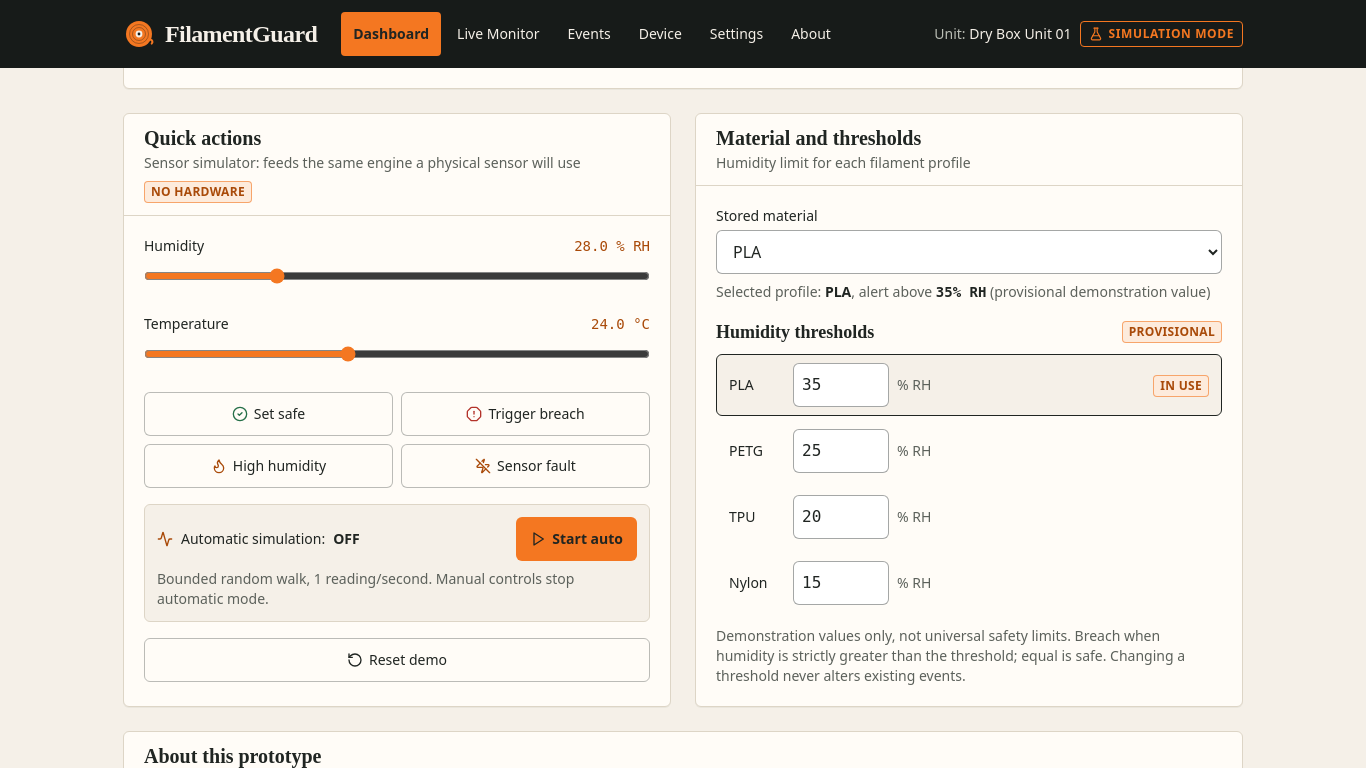
Test case: thresholds › rejects invalid threshold input and reverts
The width and height of the screenshot is (1366, 768).
(page scrolled)
Replace the text in the number field labelled "PLA" with "150" at (841, 385), box [793,363,889,407]
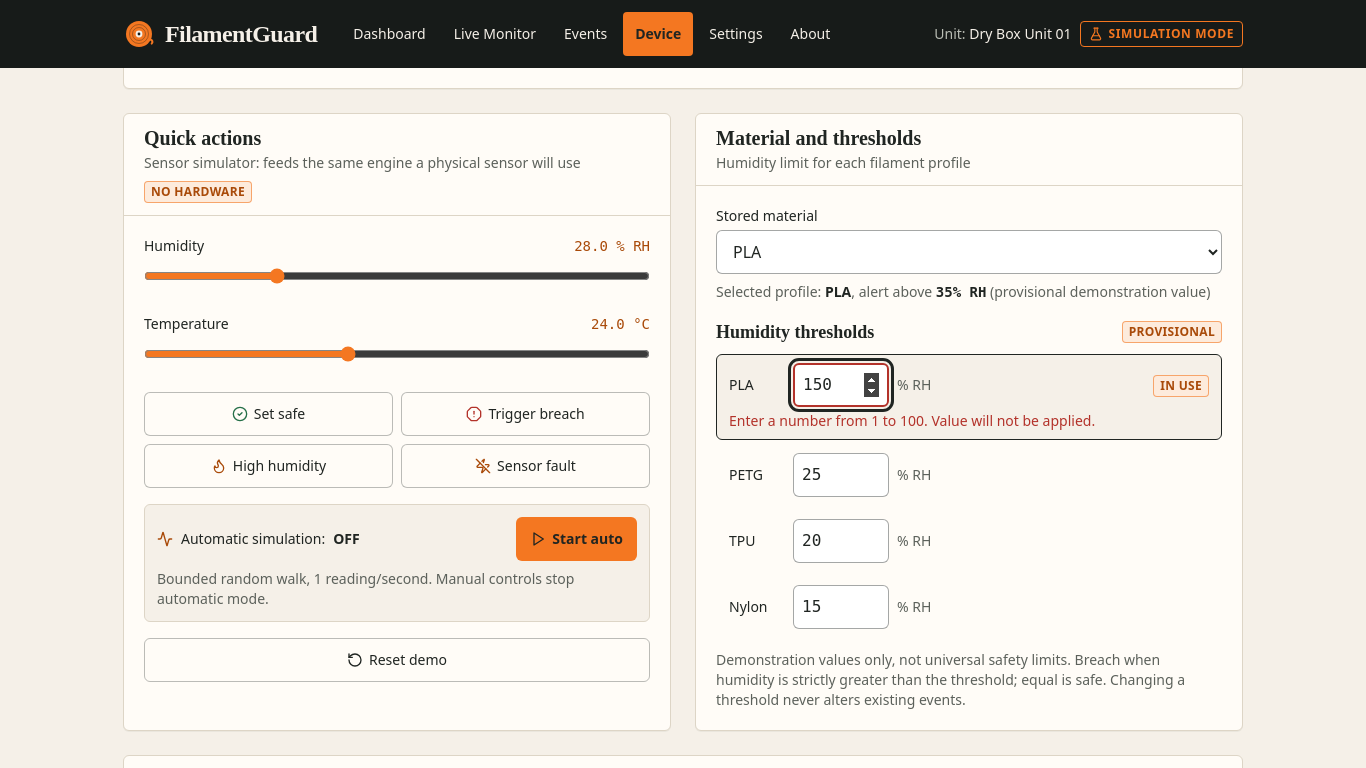
Expected: the message shows "1 to 100", [729,411,1095,430]
Press Tab
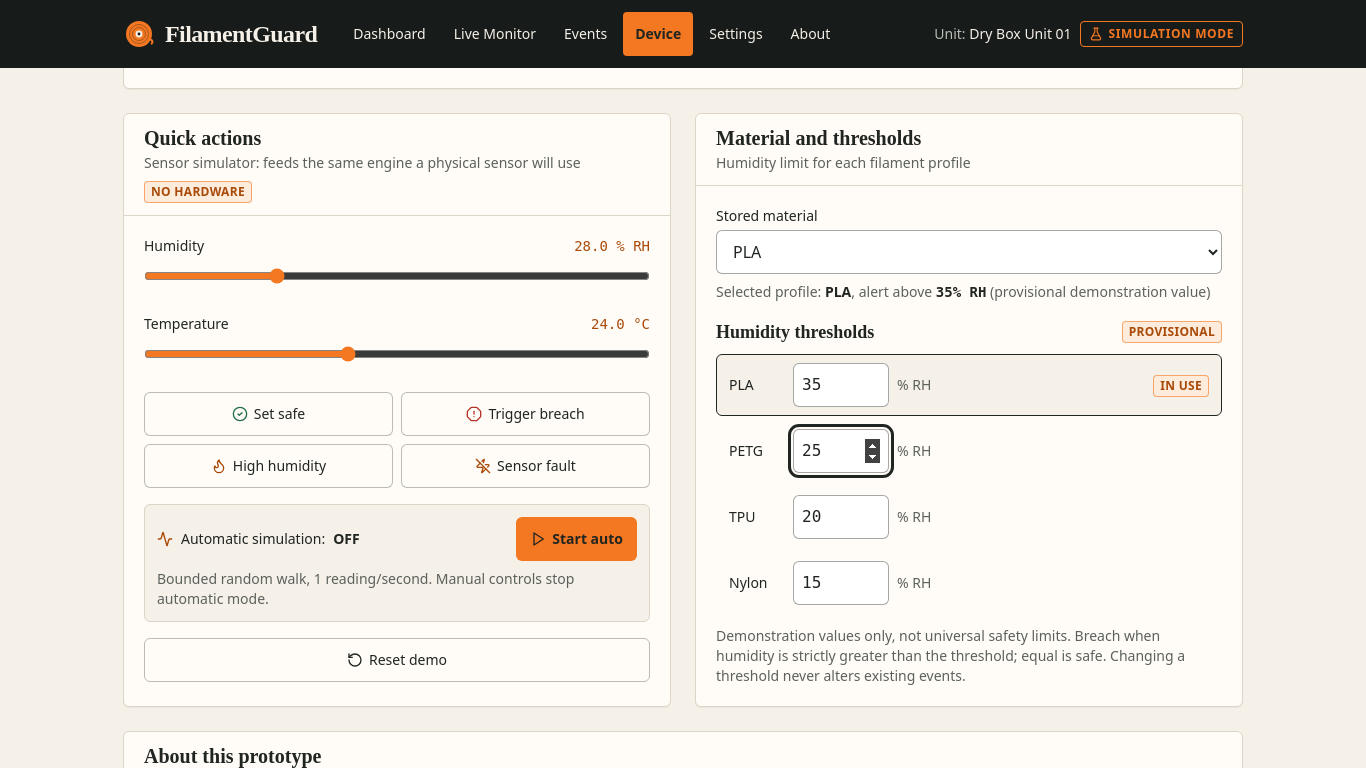
Expected: the number field labelled "PLA" holds "35", [793,363,889,407]
